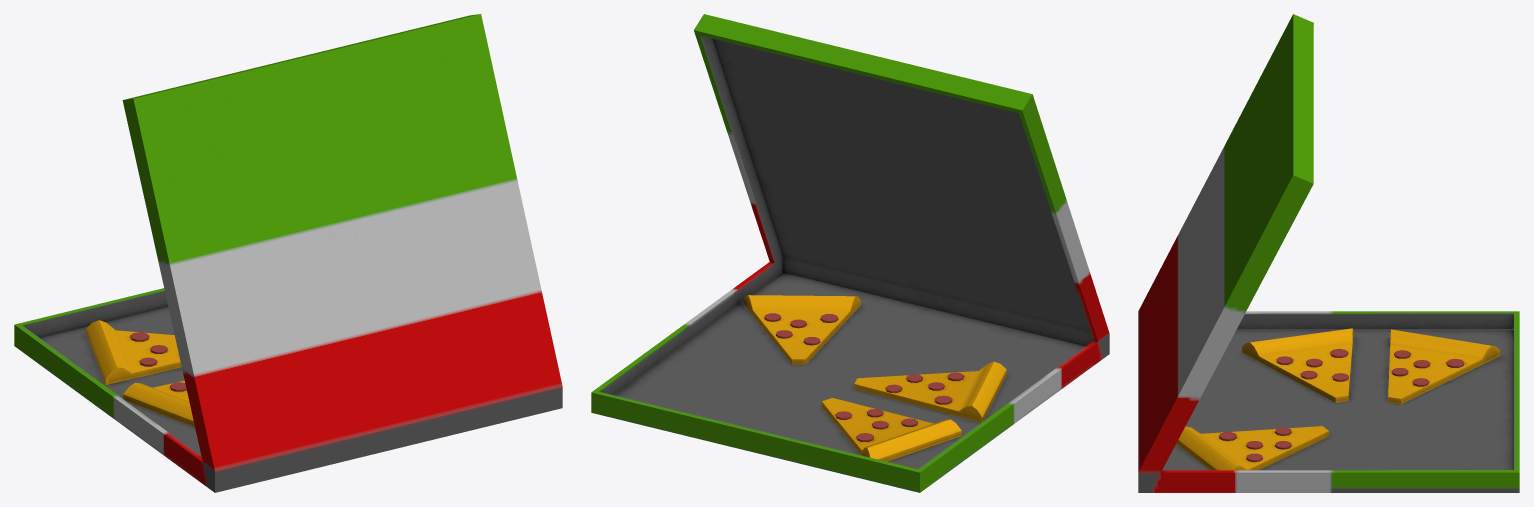
File: Piiza.fbx
3 renders of one model, left to right at view 1: azimuth 30°, elevation 25°; view 2: azimuth 150°, elevation 25°; view 3: azimuth 270°, elevation 25°, orthographic. The views are drawn at different scales.
Visible parts, largest first — view 1: pCube131; view 2: pCube131; view 3: pCube131.
Part boxes in pixels (x1,y1,x2,y2): pCube131: (14, 14, 562, 492); pCube131: (591, 14, 1109, 492); pCube131: (1138, 14, 1519, 492).
Bounding box in the file's own units: 8.02 × 7.38 × 8.02.
1 material, 1 textured.
